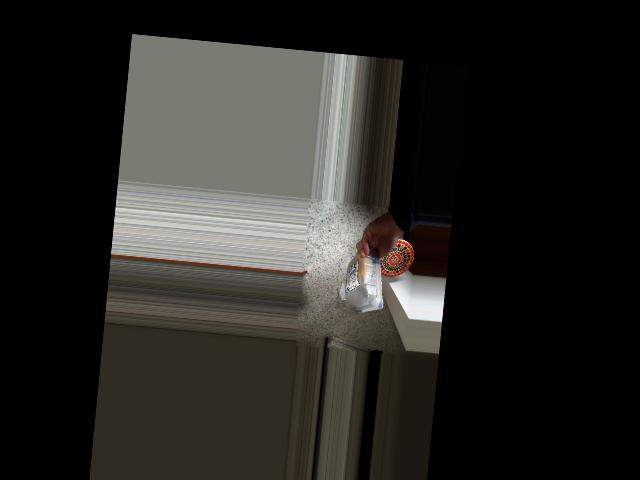cheese: (342, 247, 385, 316)
